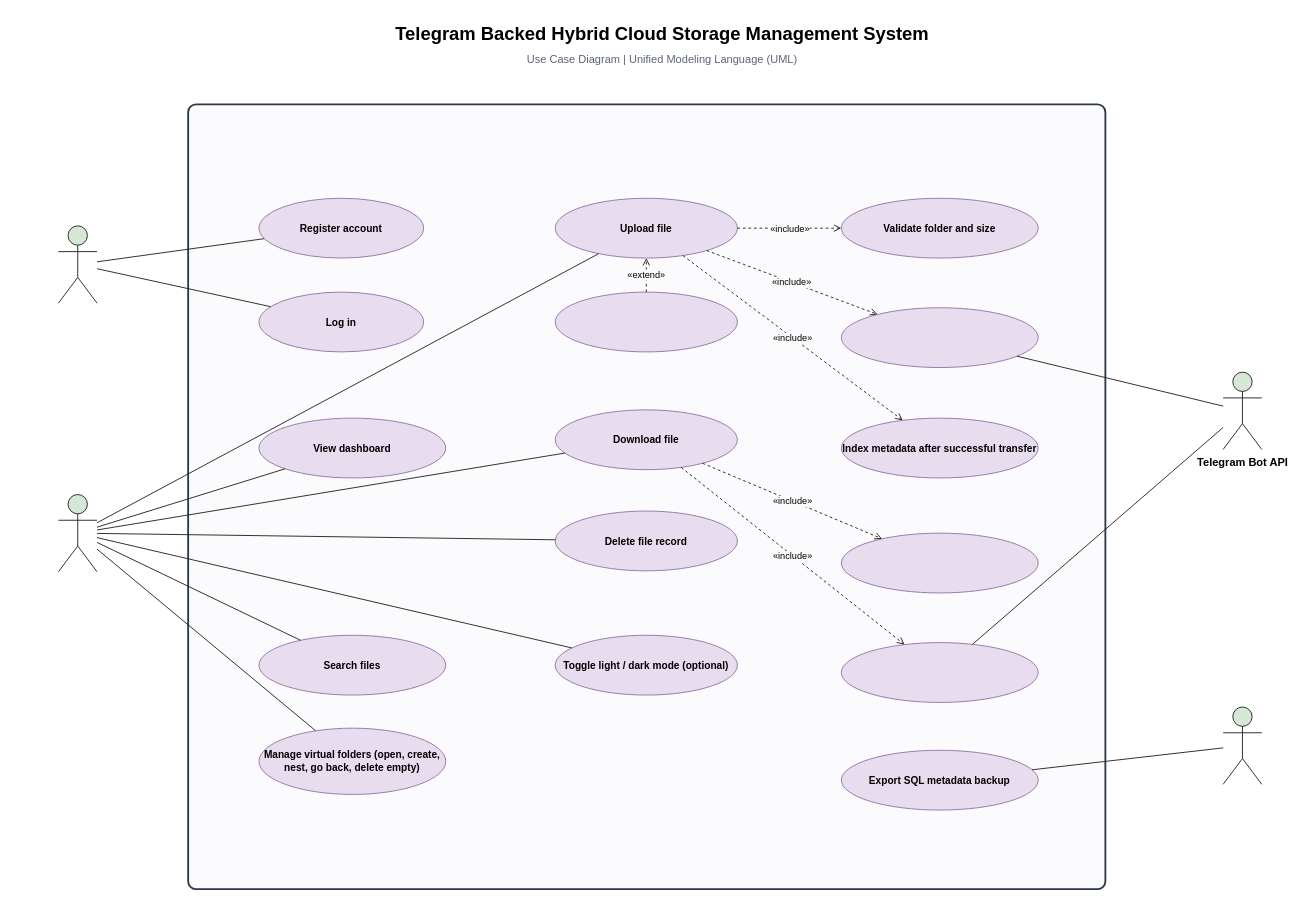
Some shapes in this 1304 by 905 pixel diagram are drawn without their labels. The shapes that lost their labels are listed below. From the top down, each one's centre as x and y in pixels, then its label:
At (77,264): "Unauthenticated Visitor".
At (645,321): "View upload progress and transfer errors".
At (939,337): "Stream upload chunks to Telegram".
At (77,533): "Storage User".
At (939,562): "Verify file ownership".
At (939,672): "Retrieve remote file and stream to browser".
At (1242,745): "System Admin".
